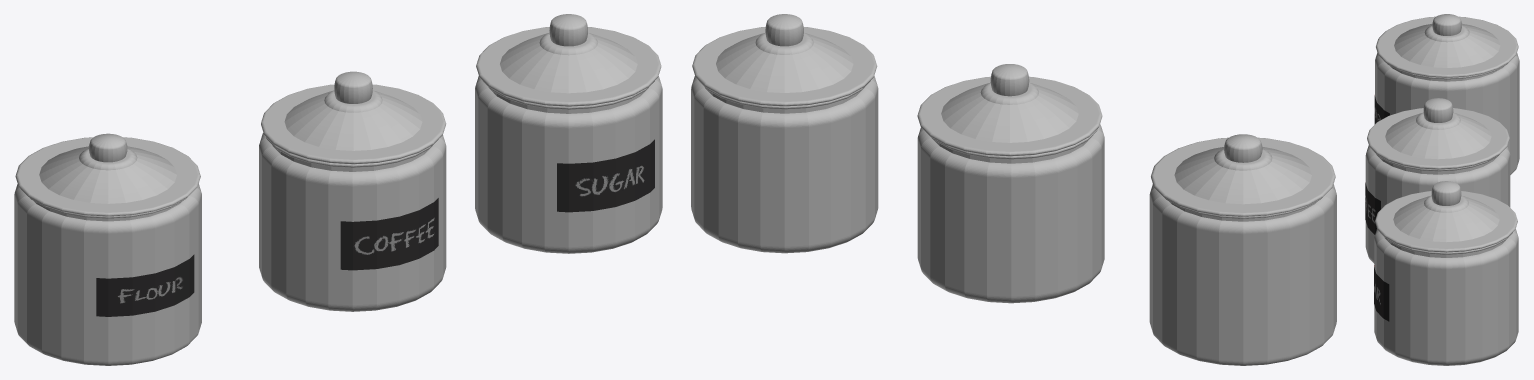
The model's file is glass_apothecary_jar.glb.
3 views of the same model, side by side, from view 1: azimuth 30°, elevation 25°; view 2: azimuth 150°, elevation 25°; view 3: azimuth 270°, elevation 25° (orthographic). The views are drawn at different scales.
Visible parts, largest first — view 1: mesh_9_ROOT__Component_1552564__1_Gallon_Base_Layer0, mesh_0_ROOT__Component_1529322__3qt_Base_Layer0, mesh_15_ROOT__Component_1575798__3qt_Base_Layer0, mesh_2_ROOT__Component_1529322__Lid__Component_1586476_Layer, mesh_17_ROOT__Component_1575798__Lid__Component_1586476_Laye, mesh_8_ROOT__Component_1552564__Lid__Component_1586476_Layer, mesh_5_ROOT__Component_1529322__Component_1552519_Layer0_87_, mesh_19_ROOT__Component_1575798__Component_1598995_Layer0_87, mesh_10_ROOT__Component_1552564__Component_1564394_Layer0_84; view 2: mesh_9_ROOT__Component_1552564__1_Gallon_Base_Layer0, mesh_0_ROOT__Component_1529322__3qt_Base_Layer0, mesh_15_ROOT__Component_1575798__3qt_Base_Layer0, mesh_17_ROOT__Component_1575798__Lid__Component_1586476_Laye, mesh_2_ROOT__Component_1529322__Lid__Component_1586476_Layer, mesh_8_ROOT__Component_1552564__Lid__Component_1586476_Layer; view 3: mesh_15_ROOT__Component_1575798__3qt_Base_Layer0, mesh_2_ROOT__Component_1529322__Lid__Component_1586476_Layer, mesh_17_ROOT__Component_1575798__Lid__Component_1586476_Laye, mesh_8_ROOT__Component_1552564__Lid__Component_1586476_Layer, mesh_9_ROOT__Component_1552564__1_Gallon_Base_Layer0, mesh_0_ROOT__Component_1529322__3qt_Base_Layer0, mesh_19_ROOT__Component_1575798__Component_1598995_Layer0_87, mesh_5_ROOT__Component_1529322__Component_1552519_Layer0_87_, mesh_10_ROOT__Component_1552564__Component_1564394_Layer0_84.
Boxes of the visible parts, box(x1,y1,x2,y2) form: mesh_9_ROOT__Component_1552564__1_Gallon_Base_Layer0: box(14, 184, 201, 365); mesh_0_ROOT__Component_1529322__3qt_Base_Layer0: box(259, 133, 446, 311); mesh_15_ROOT__Component_1575798__3qt_Base_Layer0: box(475, 76, 662, 253); mesh_2_ROOT__Component_1529322__Lid__Component_1586476_Layer: box(261, 71, 446, 164); mesh_17_ROOT__Component_1575798__Lid__Component_1586476_Laye: box(476, 14, 661, 106); mesh_8_ROOT__Component_1552564__Lid__Component_1586476_Layer: box(15, 133, 200, 216); mesh_5_ROOT__Component_1529322__Component_1552519_Layer0_87_: box(340, 198, 438, 270); mesh_19_ROOT__Component_1575798__Component_1598995_Layer0_87: box(557, 139, 654, 212); mesh_10_ROOT__Component_1552564__Component_1564394_Layer0_84: box(96, 254, 194, 316); mesh_9_ROOT__Component_1552564__1_Gallon_Base_Layer0: box(1149, 184, 1336, 365); mesh_0_ROOT__Component_1529322__3qt_Base_Layer0: box(917, 124, 1104, 303); mesh_15_ROOT__Component_1575798__3qt_Base_Layer0: box(691, 76, 878, 253); mesh_17_ROOT__Component_1575798__Lid__Component_1586476_Laye: box(692, 14, 877, 106); mesh_2_ROOT__Component_1529322__Lid__Component_1586476_Layer: box(917, 64, 1102, 156); mesh_8_ROOT__Component_1552564__Lid__Component_1586476_Layer: box(1151, 134, 1335, 216); mesh_15_ROOT__Component_1575798__3qt_Base_Layer0: box(1374, 229, 1518, 365); mesh_2_ROOT__Component_1529322__Lid__Component_1586476_Layer: box(1367, 98, 1509, 169); mesh_17_ROOT__Component_1575798__Lid__Component_1586476_Laye: box(1375, 181, 1517, 252); mesh_8_ROOT__Component_1552564__Lid__Component_1586476_Layer: box(1376, 14, 1518, 77); mesh_9_ROOT__Component_1552564__1_Gallon_Base_Layer0: box(1375, 53, 1519, 174); mesh_0_ROOT__Component_1529322__3qt_Base_Layer0: box(1365, 145, 1510, 263); mesh_19_ROOT__Component_1575798__Component_1598995_Layer0_87: box(1374, 267, 1389, 321); mesh_5_ROOT__Component_1529322__Component_1552519_Layer0_87_: box(1365, 183, 1380, 234); mesh_10_ROOT__Component_1552564__Component_1564394_Layer0_84: box(1374, 96, 1389, 123).
Size of the model in its own units: 682 by 210 by 189.
Materials: 10 (7 with a texture image).
